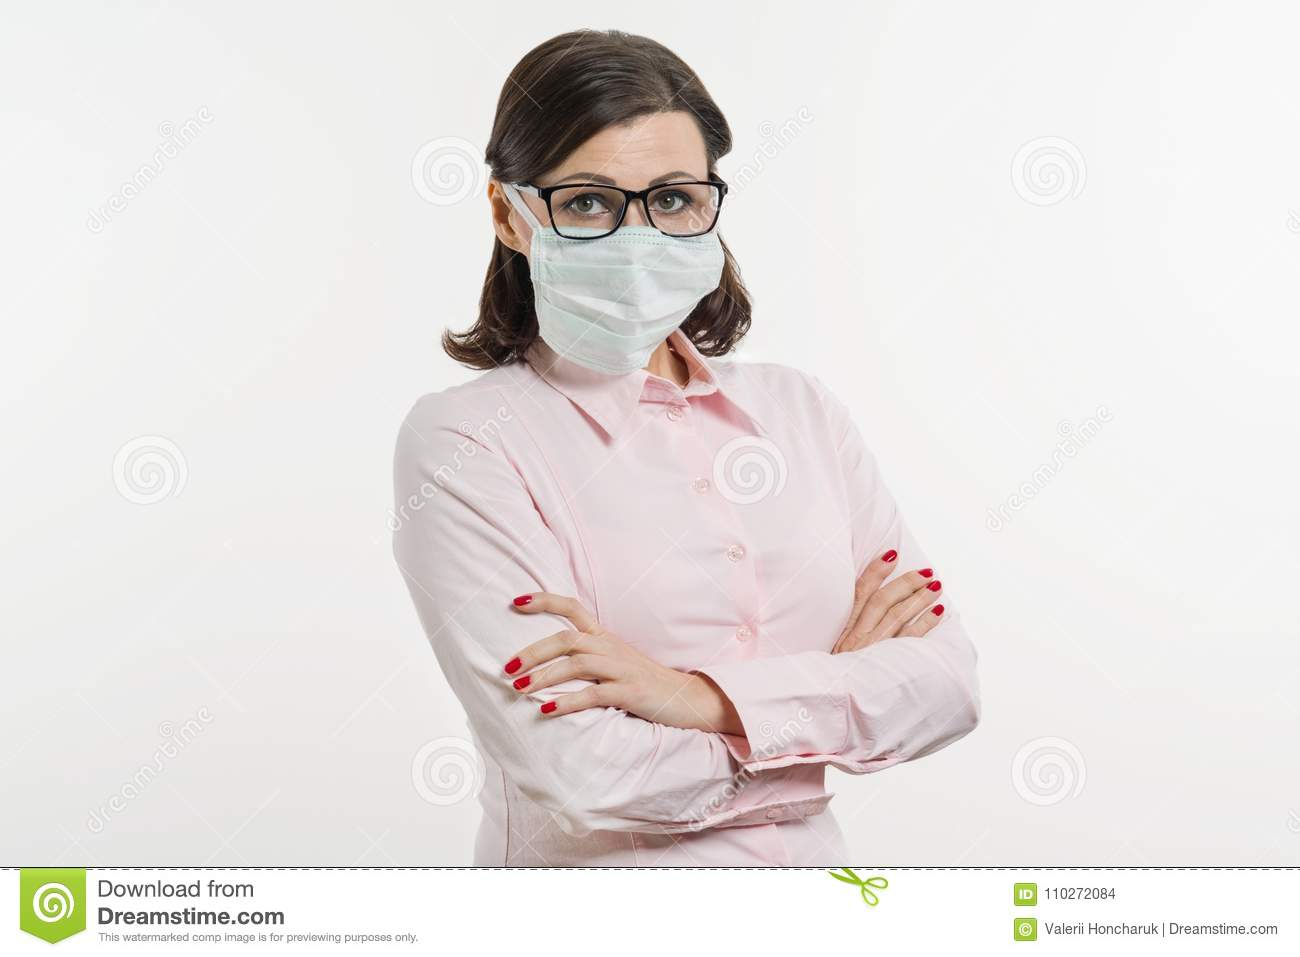mask: (528, 216, 726, 377)
